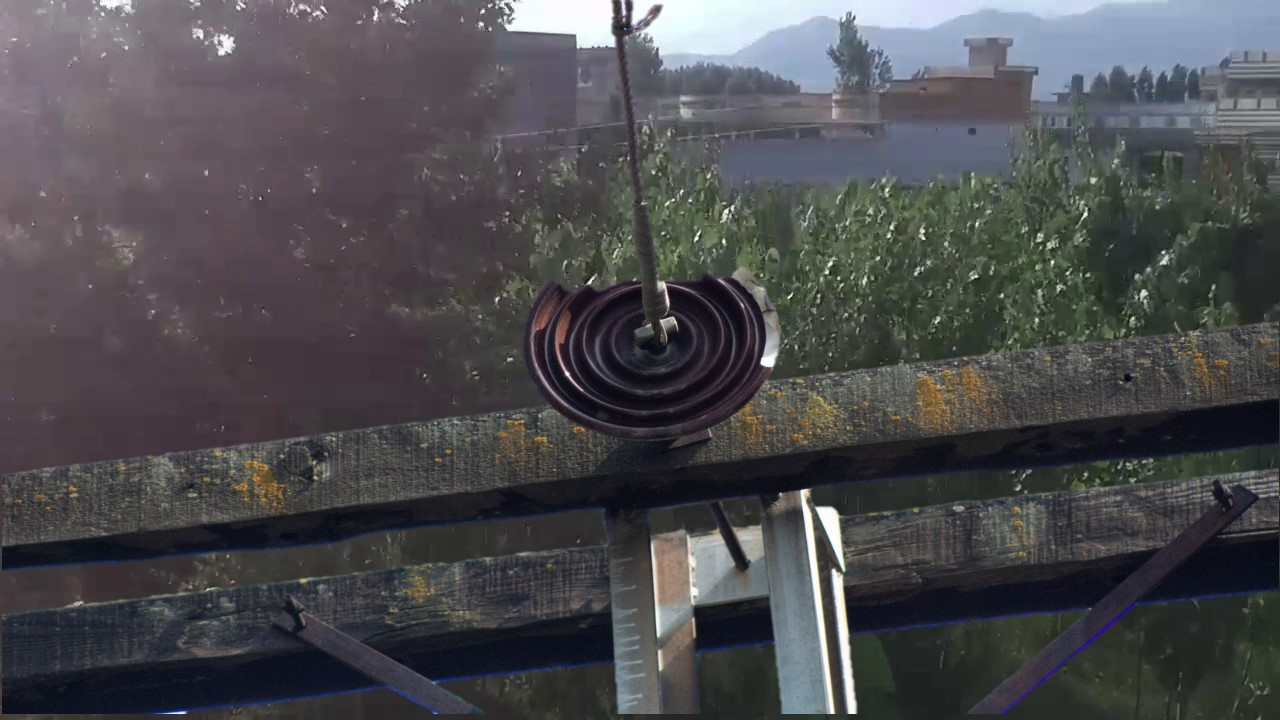defect_disc: (520, 259, 789, 447)
